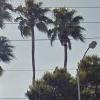Palm tree: (14, 1, 80, 64)
